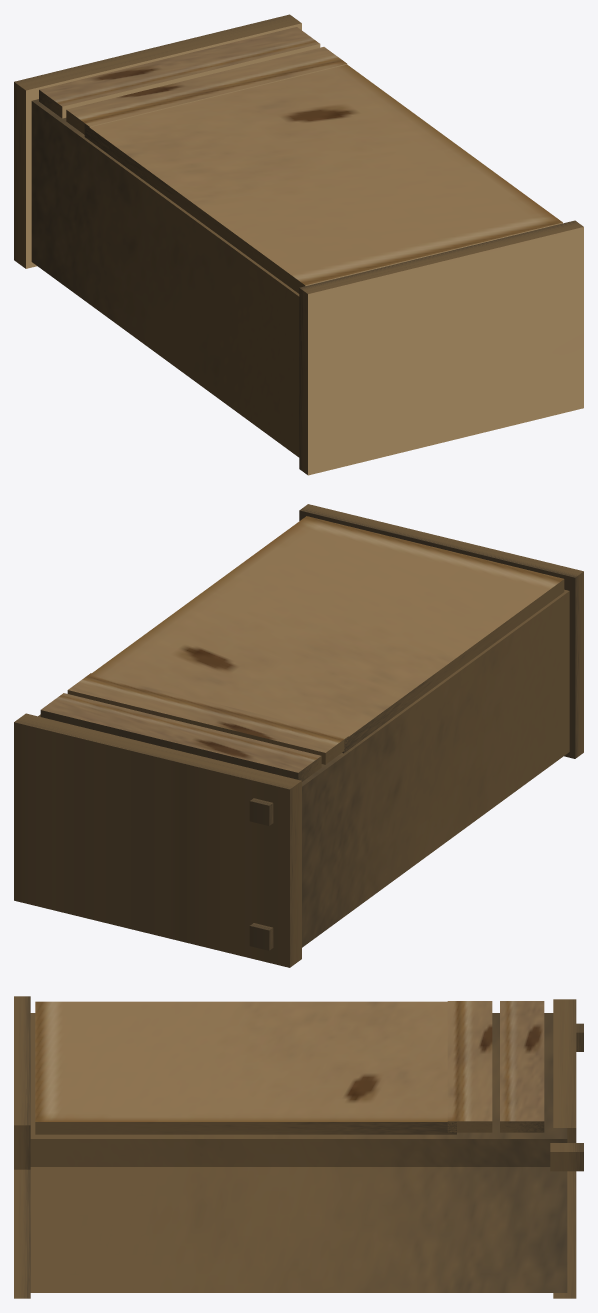
The model's file is pz_wardrobe_storage_01_light_wood_0_0.obj.
The picture shows the model from 3 angles, top to bottom: view 1: azimuth 30°, elevation 25°; view 2: azimuth 150°, elevation 25°; view 3: azimuth 270°, elevation 25°; orthographic projection. The views are drawn at different scales.
Bounding box in the file's own units: 0.995 × 0.625 × 1.86.
1 material, 1 textured.
